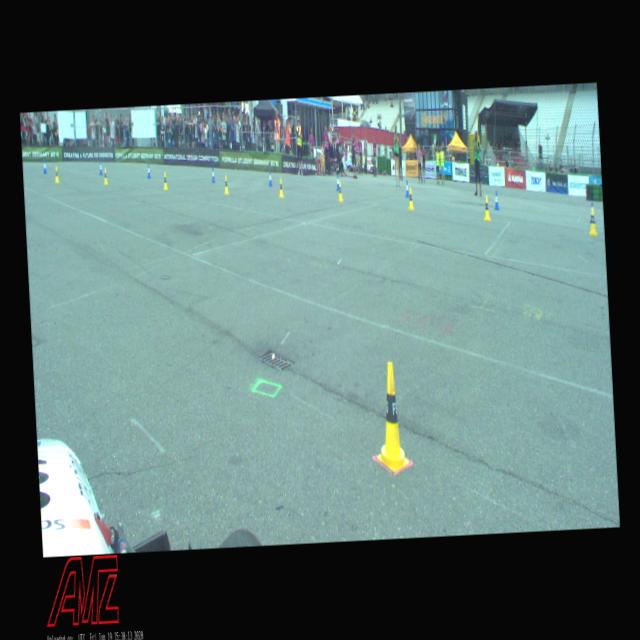blue_cone: (494, 190, 499, 210), (405, 180, 410, 198), (211, 167, 216, 183), (268, 171, 273, 187), (147, 164, 151, 178), (43, 160, 47, 173), (99, 162, 103, 175), (336, 174, 339, 190)
yellow_cone: (372, 362, 409, 472), (588, 208, 597, 236), (484, 196, 491, 220), (408, 188, 414, 210), (278, 178, 284, 198), (54, 165, 60, 182), (224, 174, 229, 194), (338, 182, 343, 202), (163, 172, 168, 190), (103, 168, 108, 185)
